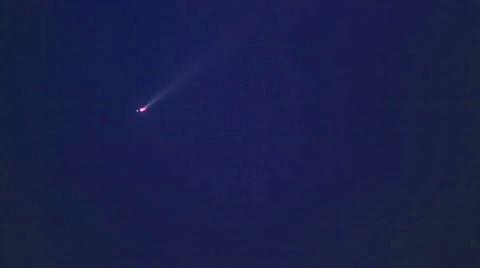Plane: (121, 78, 192, 121)
